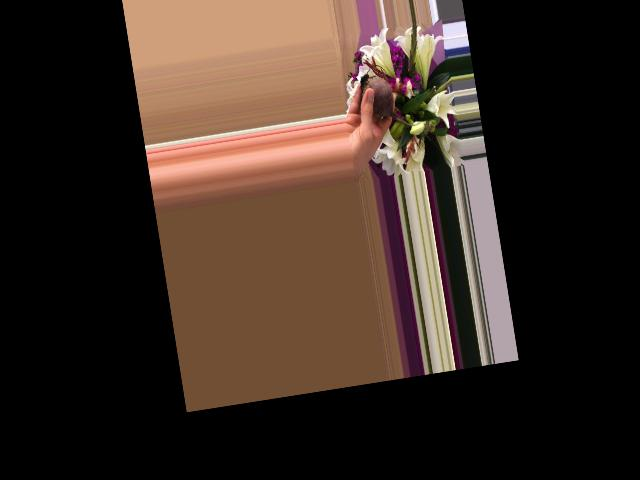beet: (357, 59, 419, 133)
